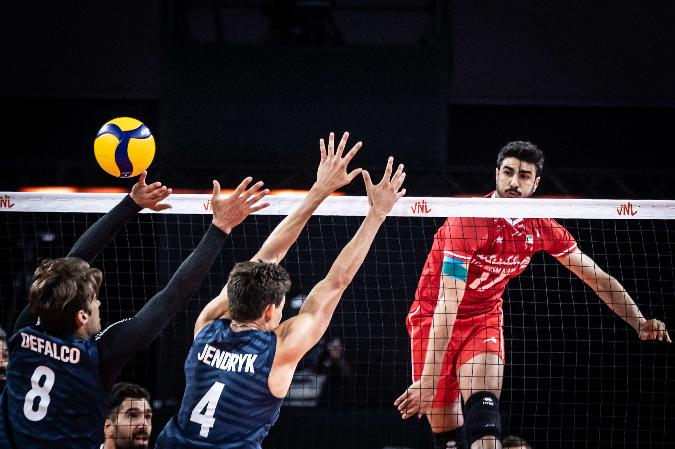ballon_volley: (92, 116, 156, 179)
